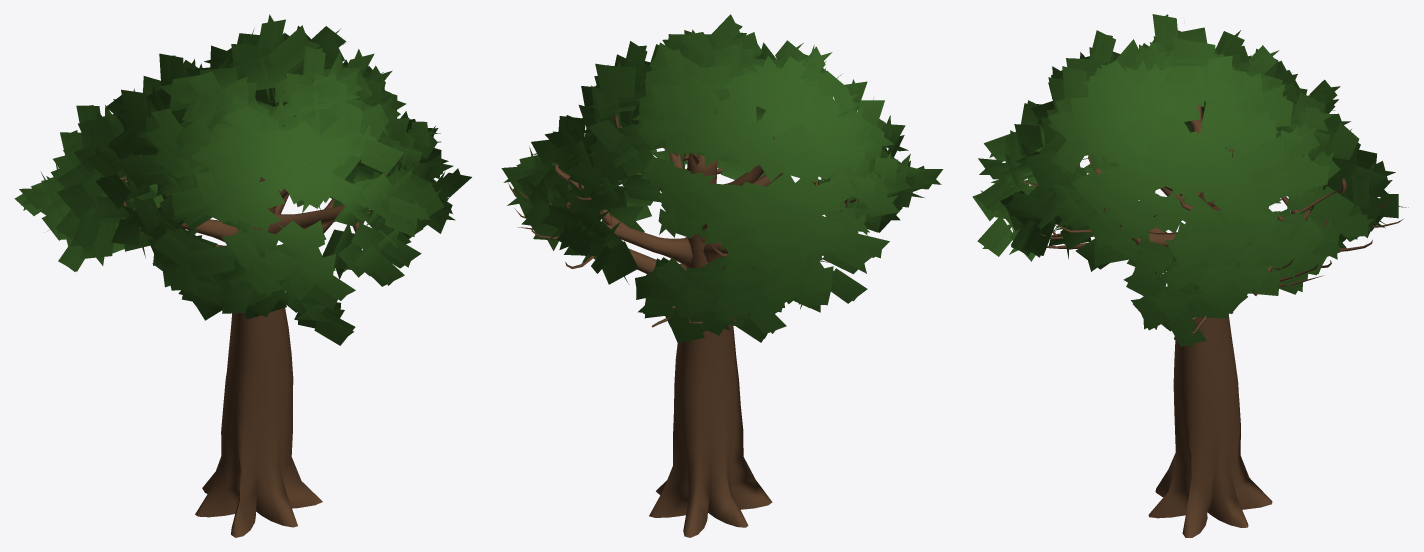
File: SM_tree_jungle_01.fbx
The picture shows the model from 3 angles, left to right: view 1: azimuth 30°, elevation 25°; view 2: azimuth 150°, elevation 25°; view 3: azimuth 270°, elevation 25°; orthographic projection. The views are drawn at different scales.
Visible parts, largest first — view 1: tree001; view 2: tree001; view 3: tree001.
Boxes of the visible parts, box(x1,y1,x2,y2) form: tree001: box(14, 14, 471, 537); tree001: box(501, 14, 942, 537); tree001: box(972, 14, 1408, 537).
Bounding box in the file's own units: 228 × 274 × 232.
